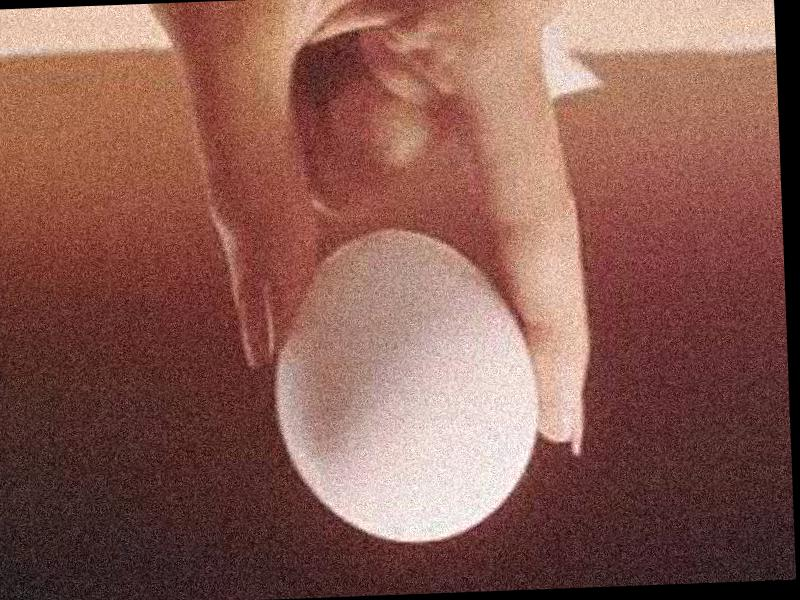Eggs: (268, 222, 546, 548)
